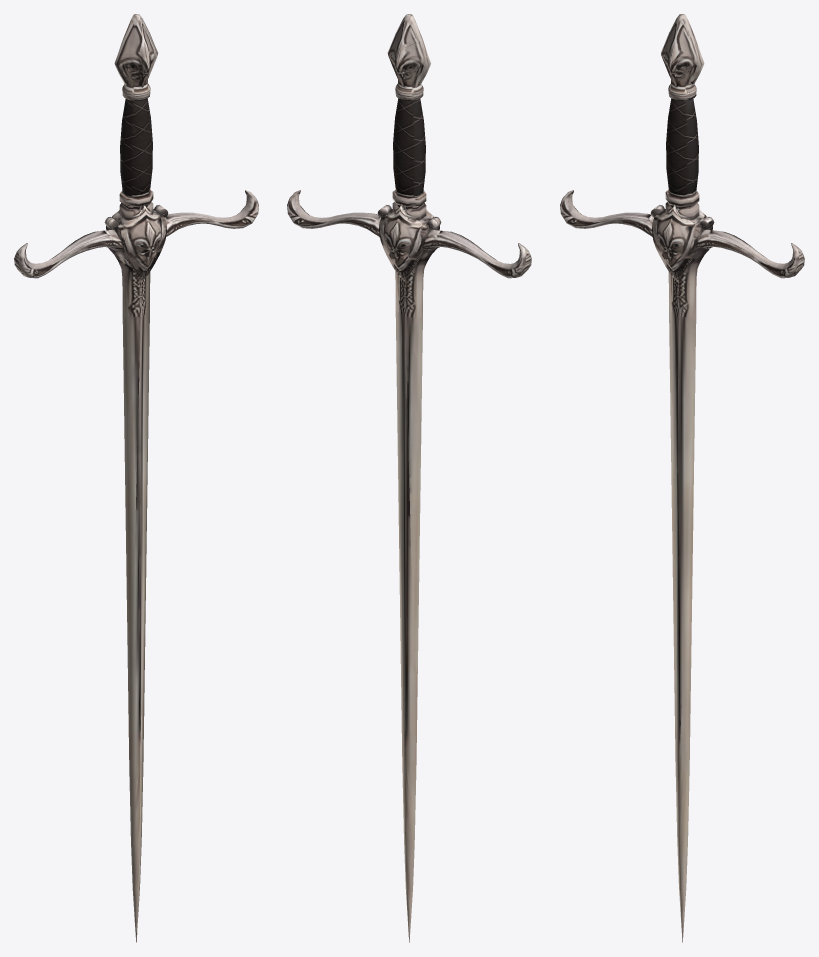
Rendered from l1-slim-sword+3d+model.glb.
3 views of the same model, side by side, from view 1: azimuth 30°, elevation 25°; view 2: azimuth 150°, elevation 25°; view 3: azimuth 330°, elevation 25° (orthographic).
Visible parts, largest first — view 1: tripo_node_b16d71dc-d3a5-4e04-b551-a10d2fb781f9; view 2: tripo_node_b16d71dc-d3a5-4e04-b551-a10d2fb781f9; view 3: tripo_node_b16d71dc-d3a5-4e04-b551-a10d2fb781f9.
Part boxes in pixels (x1=…): tripo_node_b16d71dc-d3a5-4e04-b551-a10d2fb781f9: x1=14, y1=14, x2=258, y2=942; tripo_node_b16d71dc-d3a5-4e04-b551-a10d2fb781f9: x1=287, y1=14, x2=531, y2=942; tripo_node_b16d71dc-d3a5-4e04-b551-a10d2fb781f9: x1=560, y1=14, x2=804, y2=942.
Bounding box in the file's own units: 0.271 × 0.9995 × 0.0581.
1 material, 1 textured.
